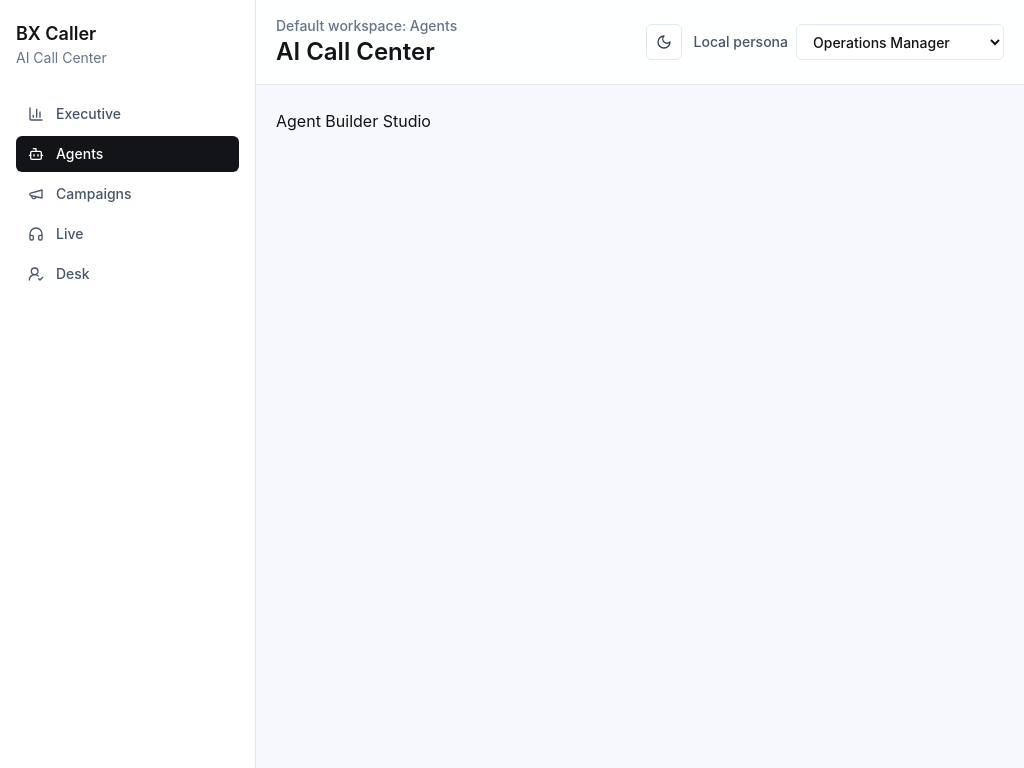
Test: AppShell › switches local persona defaults to the matching workspace
Select "Growth Manager" in the dropdown labelled "Local persona" at point(900, 42), box x1=796 y1=24 x2=1004 y2=60
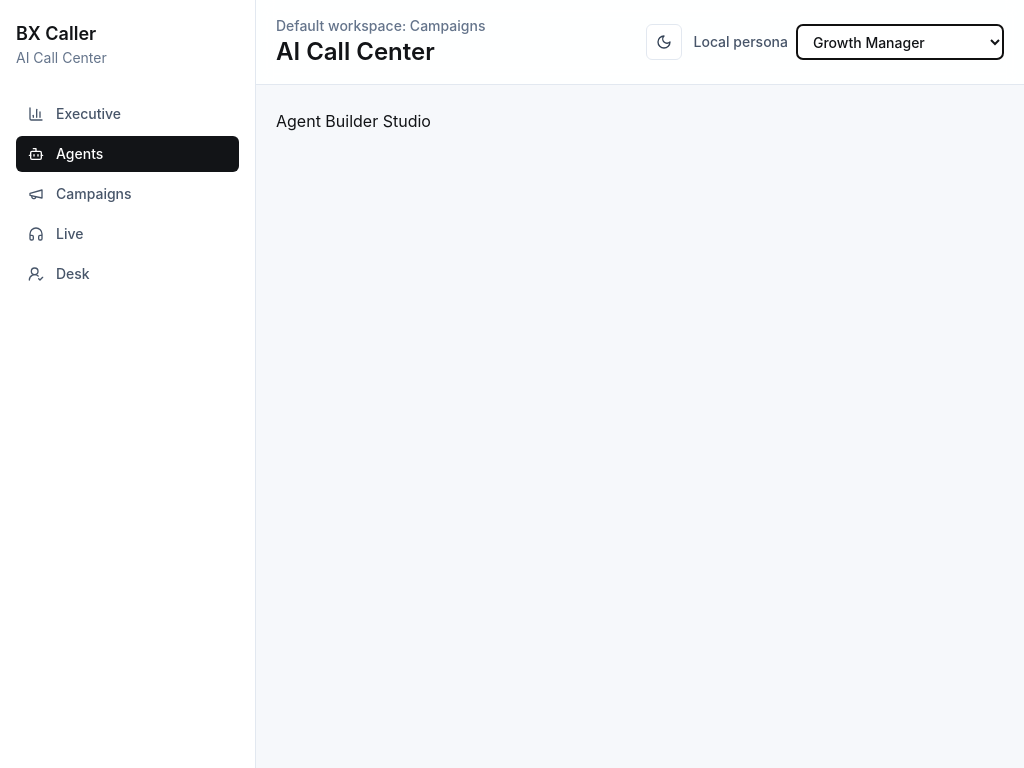
Check: the text "Default workspace: Campaigns" is shown, box x1=276 y1=16 x2=485 y2=36
